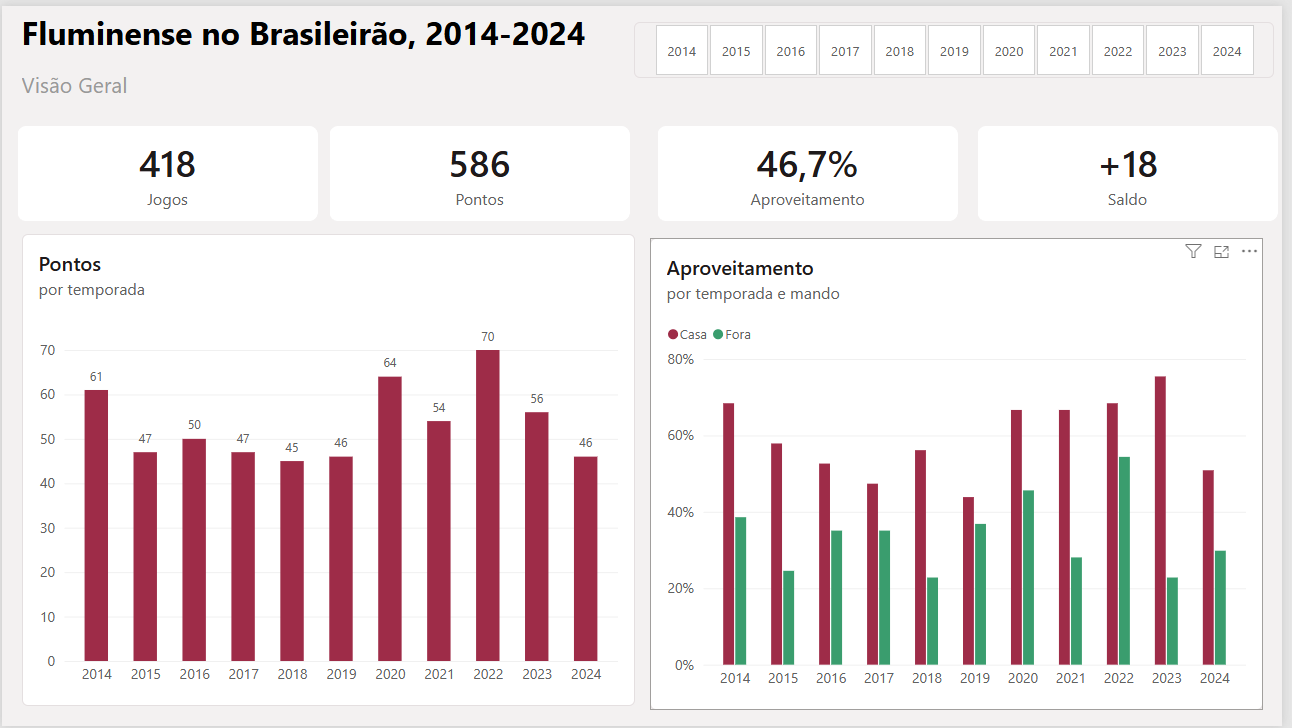

The dashboard page shown, as its layout file describes it:
{"tool":"powerbi","page":{"name":"Visão Geral","canvas":[1280,720],"ordinal":0},"visuals":[{"type":"textbox","box":[16,0,640,112],"z":0},{"type":"slicer","fields":{"Values":["dim_temporada.temporada"]},"box":[632,16,640,56],"z":1000},{"type":"cardVisual","fields":{"Data":["Medidas.Jogos"]},"box":[16,120,300,95],"z":2000},{"type":"cardVisual","fields":{"Data":["Medidas.Aproveitamento"]},"box":[656,120,300,95],"z":3000},{"type":"cardVisual","fields":{"Data":["Medidas.Pontos"]},"box":[328,120,300,95],"z":4000},{"type":"cardVisual","fields":{"Data":["Medidas.Saldo"]},"box":[976,120,300,95],"z":5000},{"type":"clusteredColumnChart","fields":{"Category":["dim_temporada.temporada"],"Y":["Medidas.Pontos"]},"box":[20,228,613,472],"z":6000},{"type":"clusteredColumnChart","fields":{"Category":["dim_temporada.temporada"],"Series":["jogos.mando"],"Y":["Medidas.Aproveitamento"]},"box":[648,232,613,472],"z":7000}]}

Visuals, with their boxes in screenshot pixels (x1, y1, x2, y2), scaled from the page's 1280x720 canvas onto the 1292x728 screenshot:
textbox: BBox(16, 0, 662, 113)
slicer - dim_temporada.temporada: BBox(638, 16, 1284, 73)
cardVisual - Medidas.Jogos: BBox(16, 121, 319, 217)
cardVisual - Medidas.Aproveitamento: BBox(662, 121, 965, 217)
cardVisual - Medidas.Pontos: BBox(331, 121, 634, 217)
cardVisual - Medidas.Saldo: BBox(985, 121, 1288, 217)
clusteredColumnChart - dim_temporada.temporada x Medidas.Pontos: BBox(20, 231, 639, 708)
clusteredColumnChart - dim_temporada.temporada x jogos.mando: BBox(654, 235, 1273, 712)
